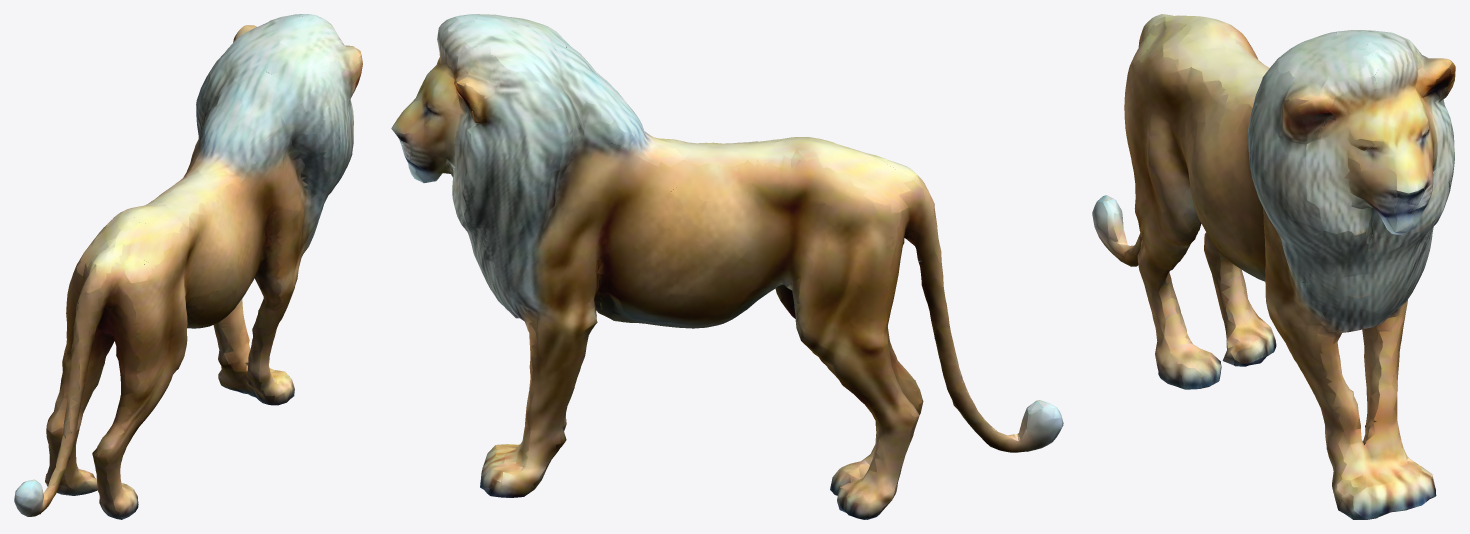
File: lion.glb
The picture shows the model from 3 angles, left to right: view 1: azimuth 30°, elevation 25°; view 2: azimuth 150°, elevation 25°; view 3: azimuth 270°, elevation 25°; orthographic projection. The views are drawn at different scales.
Visible parts, largest first — view 1: world; view 2: world; view 3: world.
Part boxes in pixels (x1,y1,x2,y2): world: (14,14,362,519); world: (391,14,1063,519); world: (1092,14,1455,519).
Bounding box in the file's own units: 0.9927 × 0.8258 × 0.5468.
Materials: 1 (1 with a texture image).
